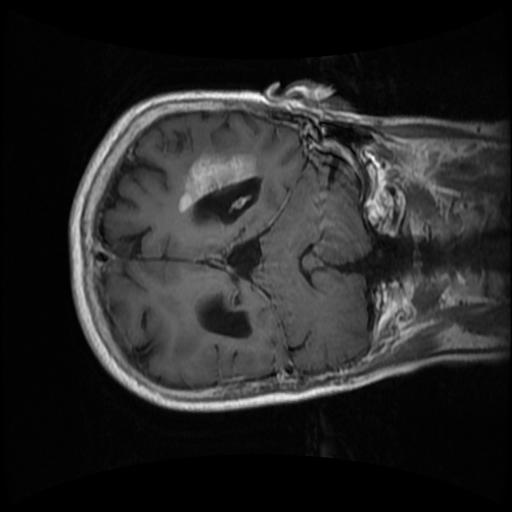glioma: (178, 152, 256, 213)
